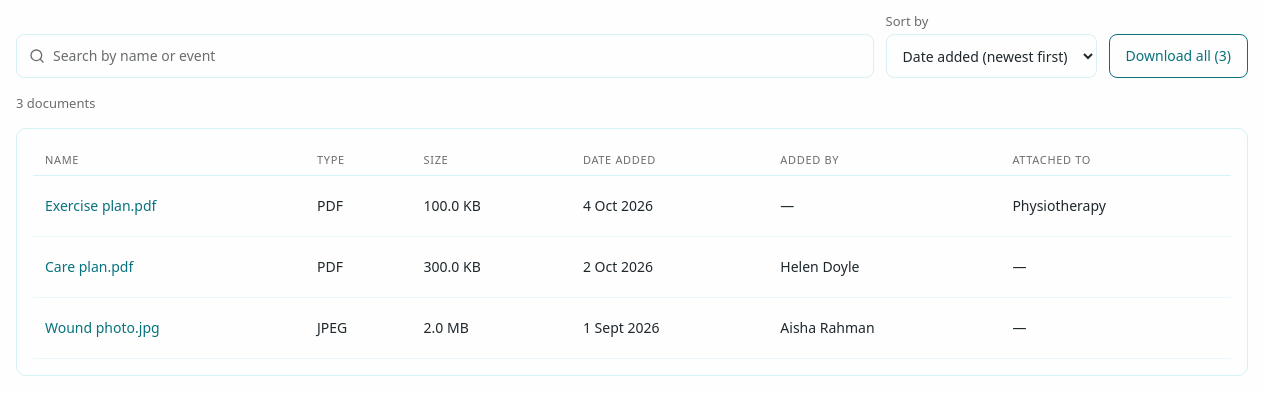
Test: [F0-25][AC-05][AC-07] search › [F0-25][AC-07] shows a no-match state with Clear search, and Download all stays
The width and height of the screenshot is (1265, 393).
Type "zzz" into the search field named "Search documents" at (457, 56), box [53,46,861,66]
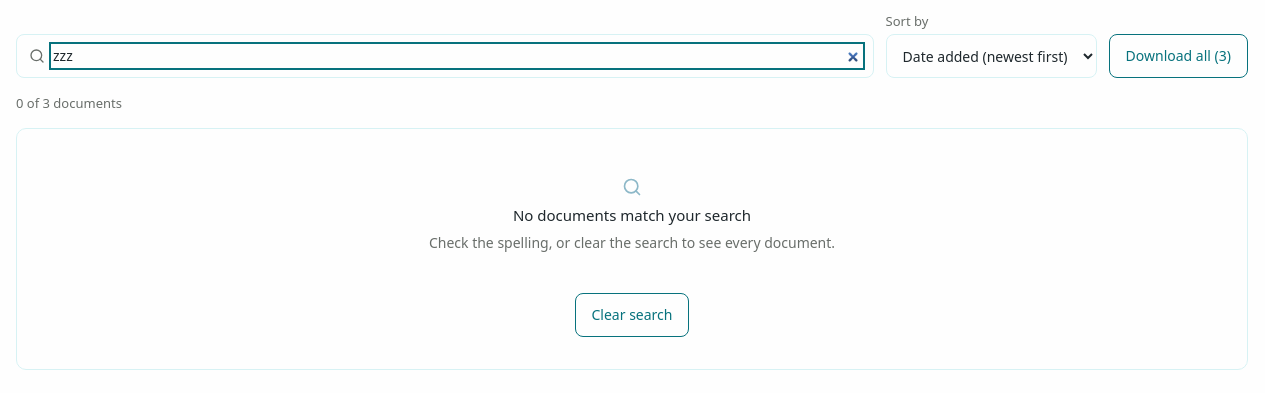
Expected: the link "Download all (3)" is shown, [1109,34,1248,78]
Expected: the table is gone
Expected: the text "No documents match your search" is shown, [513,205,751,225]
Click the button "Clear search" at (632, 315), box [574,293,690,337]
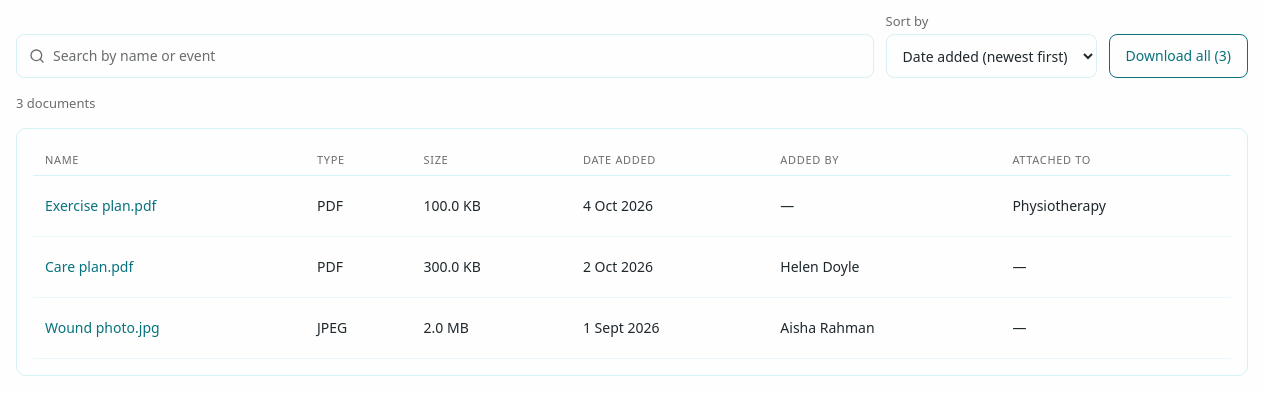
Expected: the number of buttons is 3, [45,184,156,228]; [45,245,133,289]; [45,306,160,350]
Expected: the search field named "Search documents" is empty, [53,46,861,66]
